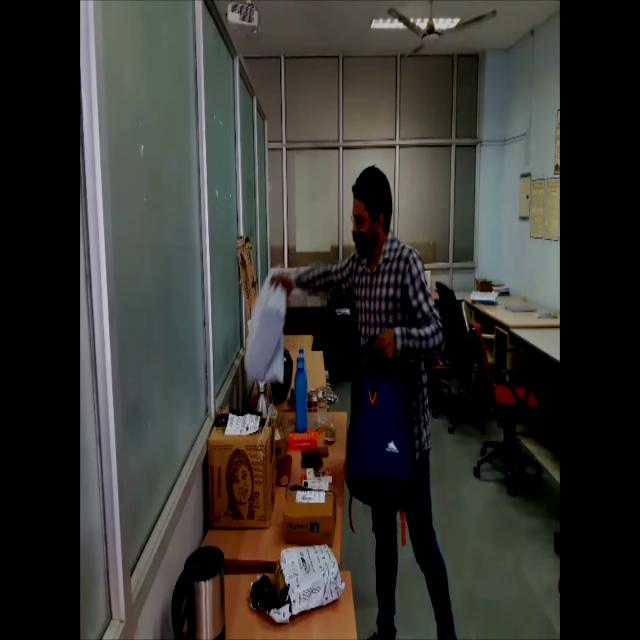shoplifting: (314, 164, 446, 640)
